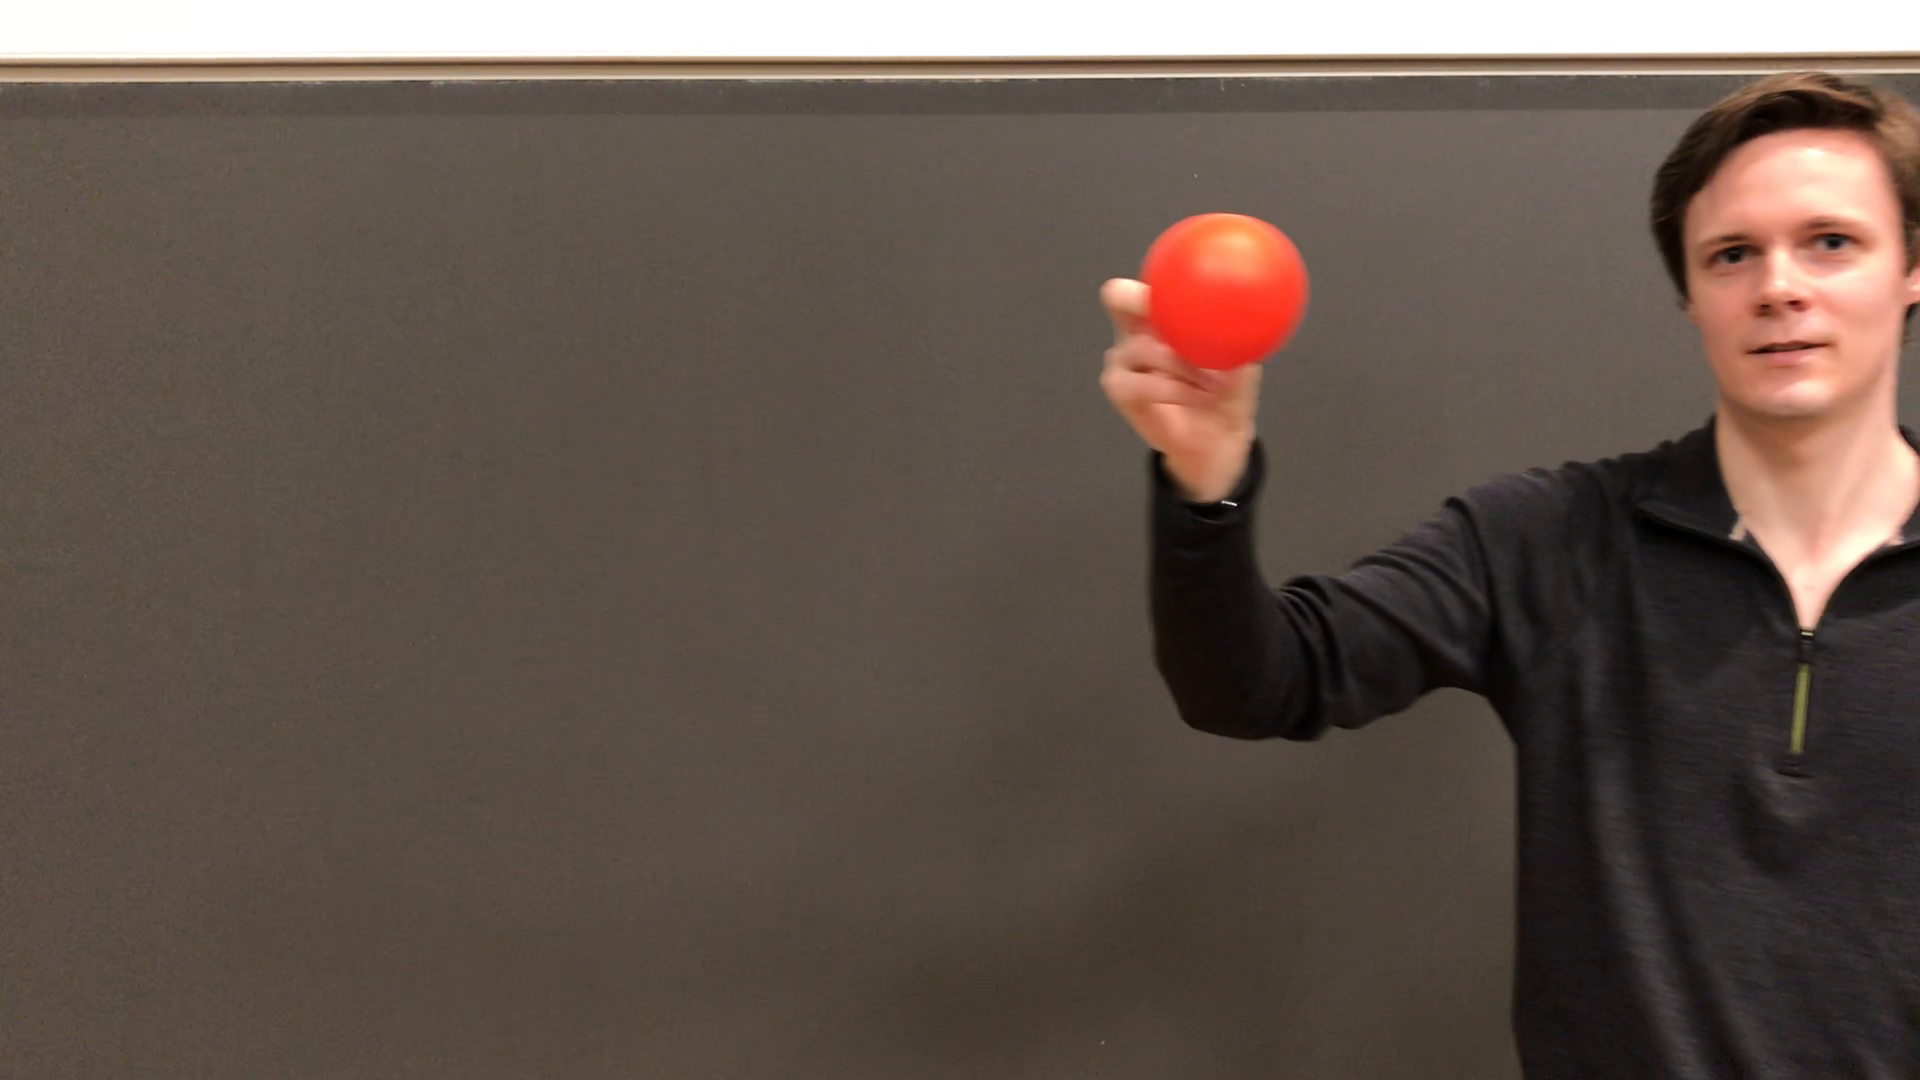Ball: (1146, 215, 1315, 365)
